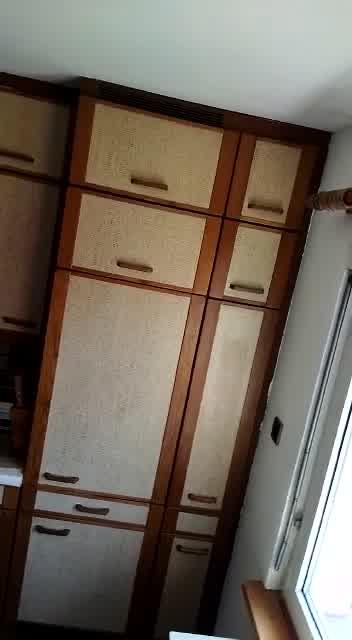cabinet_door: (50, 283, 169, 497), (71, 104, 236, 203), (24, 524, 155, 640), (189, 303, 259, 513), (64, 194, 218, 285), (243, 119, 320, 222), (222, 219, 290, 306), (35, 491, 160, 527)
handle: (238, 192, 288, 221), (223, 273, 271, 299), (129, 168, 171, 195), (115, 255, 155, 282), (182, 484, 226, 505), (75, 500, 112, 522), (37, 520, 72, 542), (43, 468, 80, 486)
